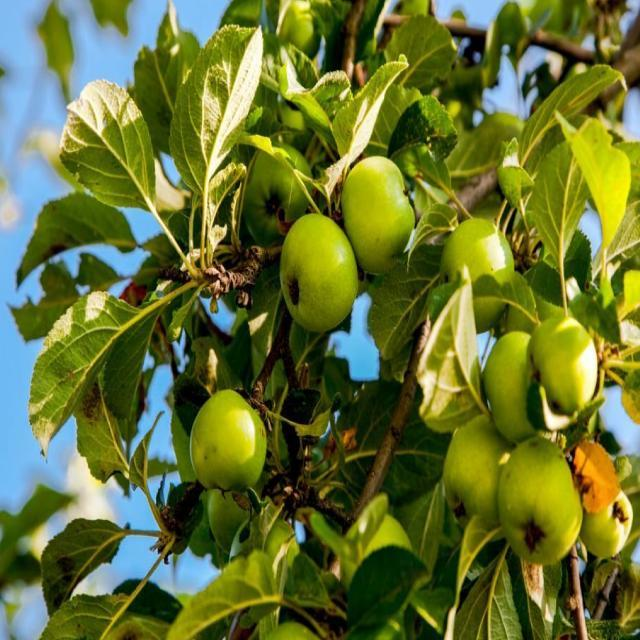Green Apple: (505, 436, 589, 566), (282, 212, 363, 341), (343, 162, 420, 262), (530, 316, 596, 429), (445, 211, 514, 318), (196, 396, 269, 497), (448, 426, 513, 535), (481, 330, 548, 433), (255, 141, 311, 236), (591, 484, 639, 556), (261, 622, 338, 640)
